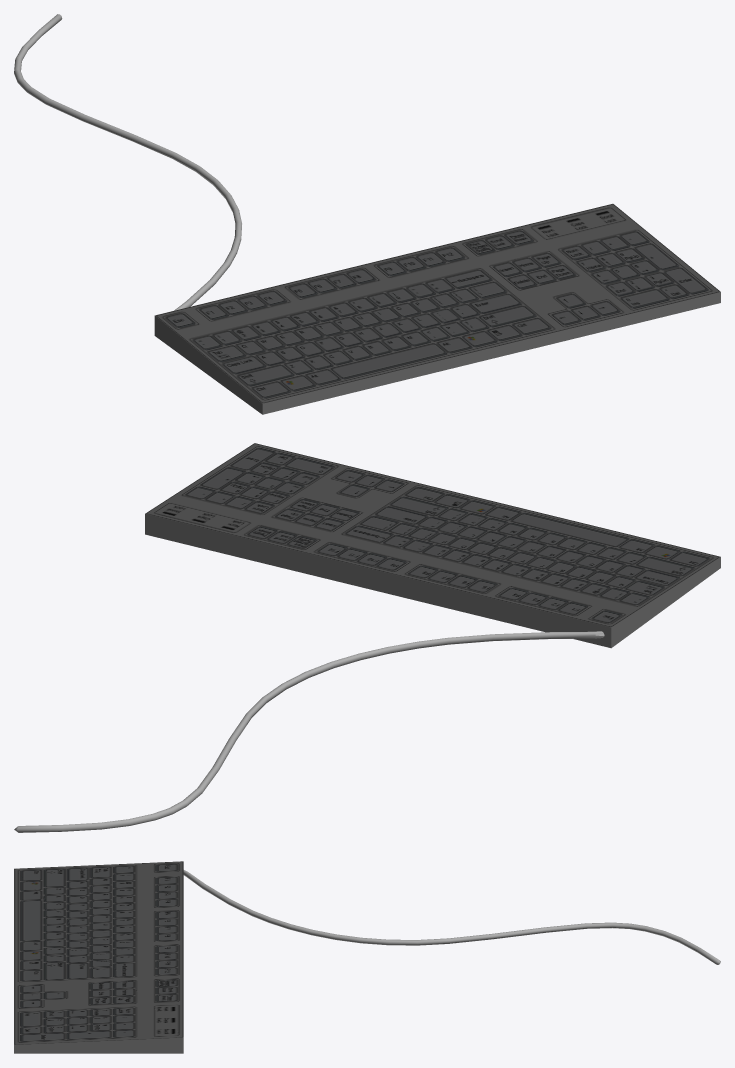
The model's file is Keyboard.fbx.
The picture shows the model from 3 angles, top to bottom: view 1: azimuth 30°, elevation 25°; view 2: azimuth 150°, elevation 25°; view 3: azimuth 270°, elevation 25°; orthographic projection. The views are drawn at different scales.
Visible parts, largest first — view 1: polySurface1; view 2: polySurface1; view 3: polySurface1.
Boxes of the visible parts, x1,y1,x2,y2 form: polySurface1: (14, 14, 720, 414); polySurface1: (14, 443, 720, 832); polySurface1: (14, 861, 720, 1053).
Size of the model in its own units: 4.99 by 0.2126 by 8.46.
3 materials, 1 textured.
